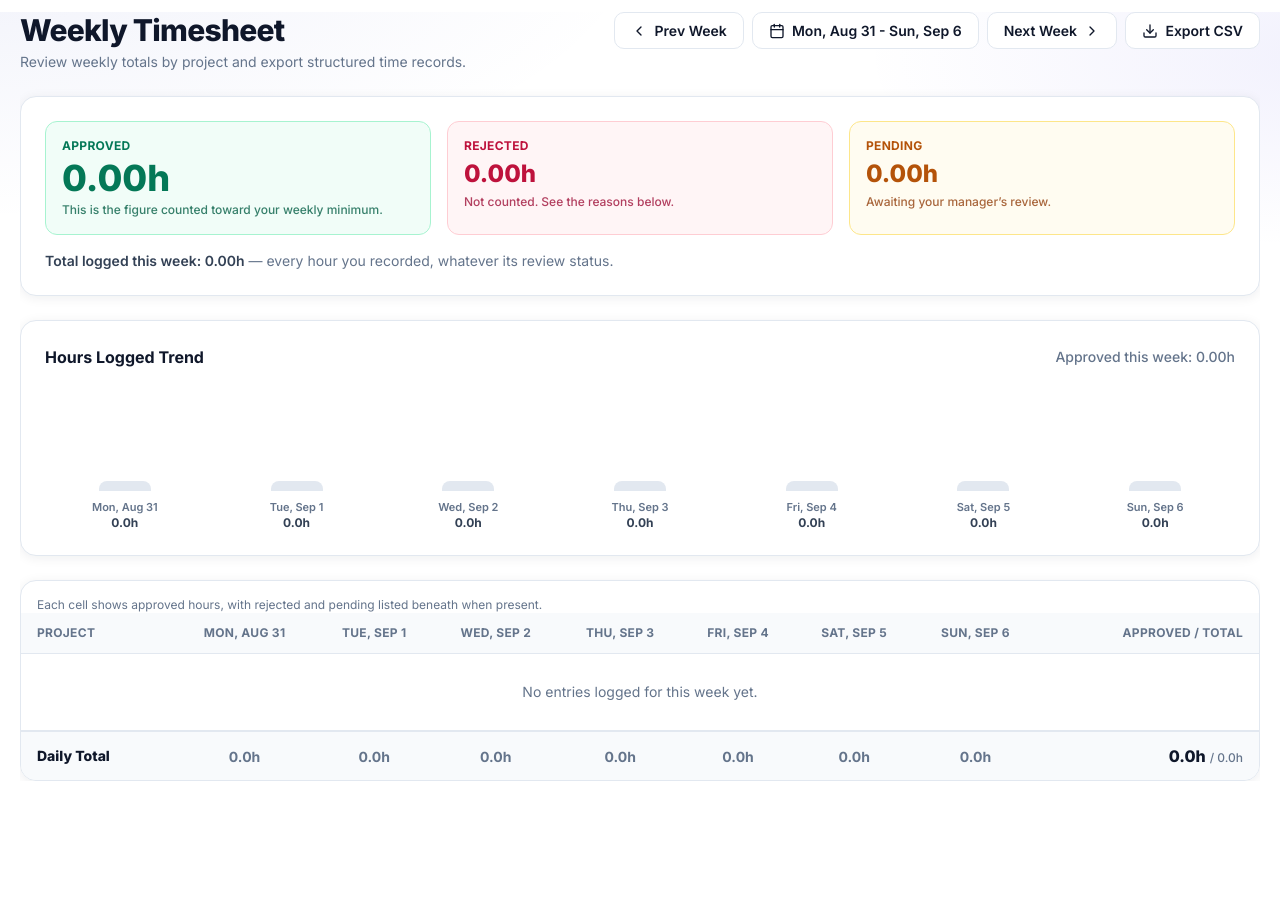
Test case: UAT remediation regressions › exports timesheet CSV through reports export endpoint
Click the button "Export CSV": (1193, 31) [1125,12,1260,49]
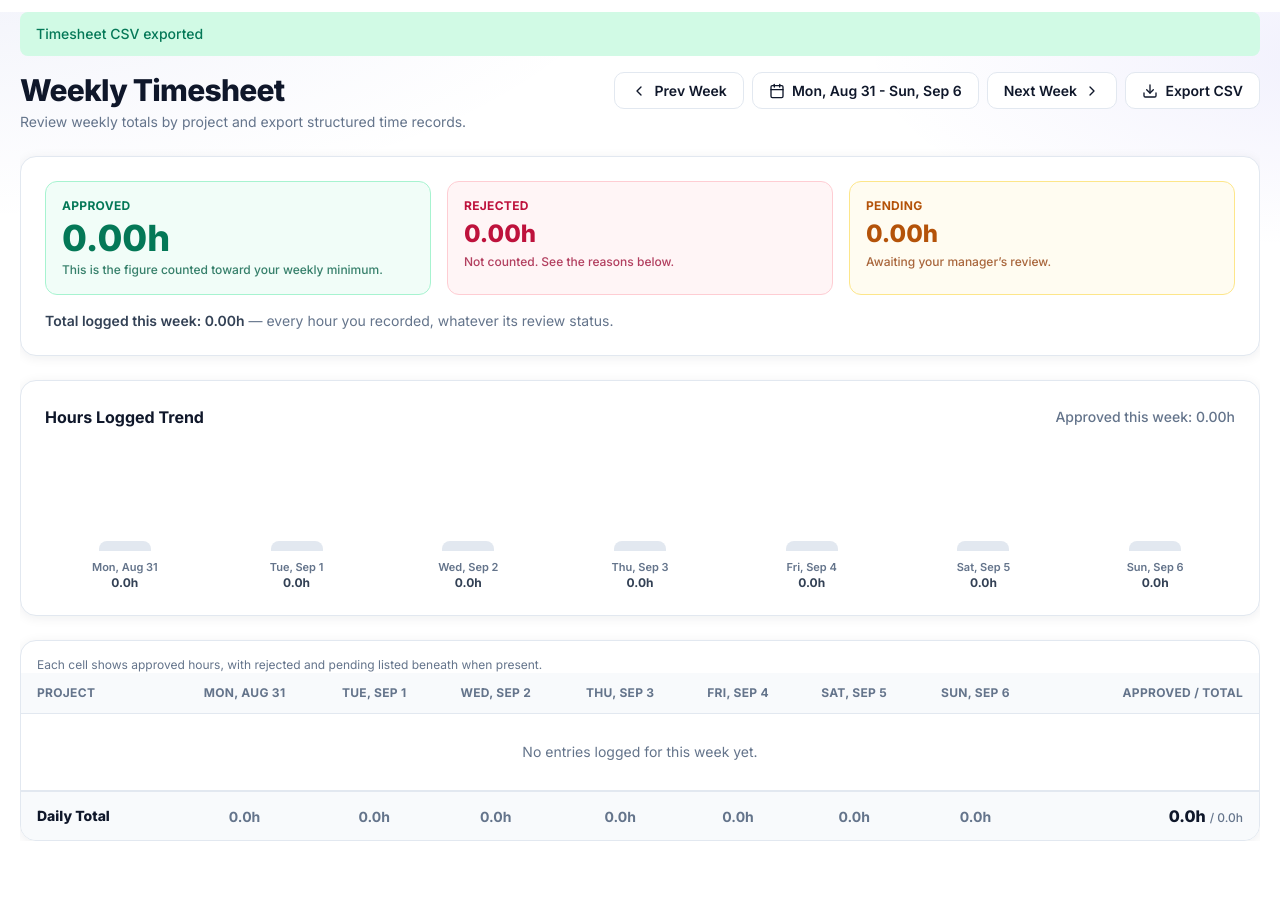
Result: the text "Timesheet CSV exported" is shown at [20,12,1260,56]
